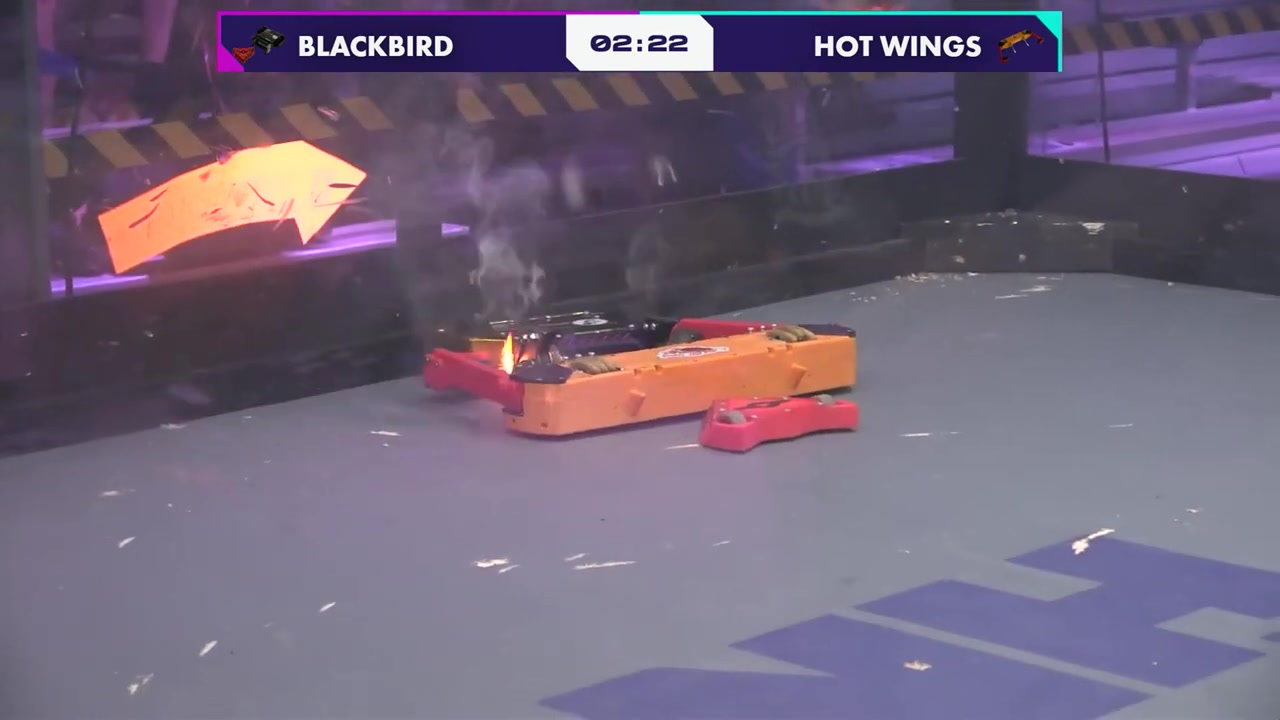combatbot: (425, 311, 859, 438), (460, 303, 676, 359)
minibot: (700, 391, 859, 449)
